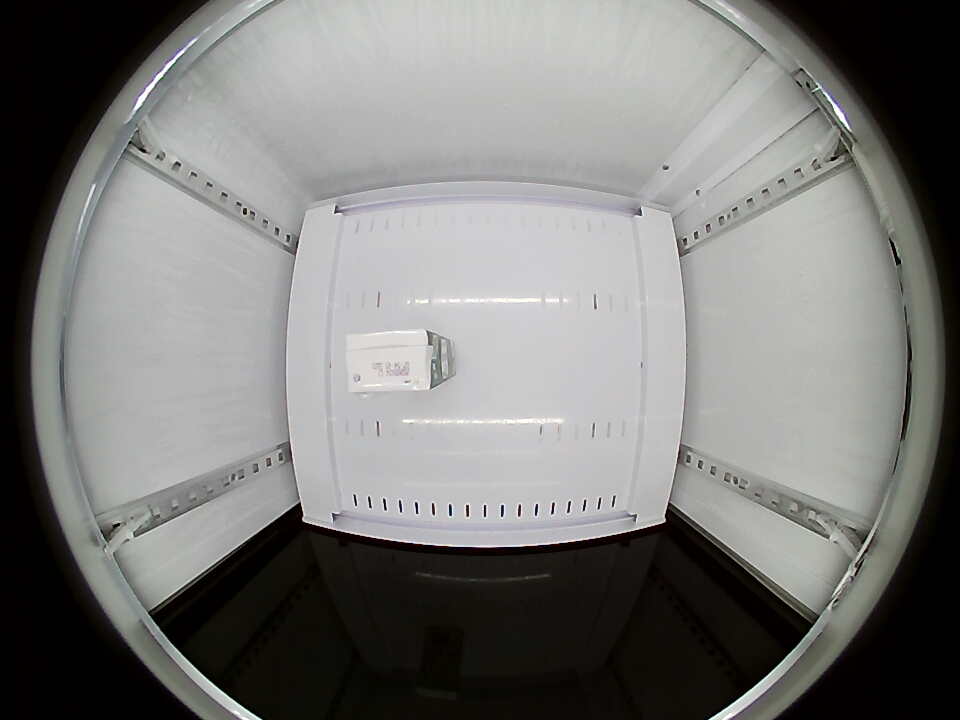jindian: (346, 329, 445, 394)
